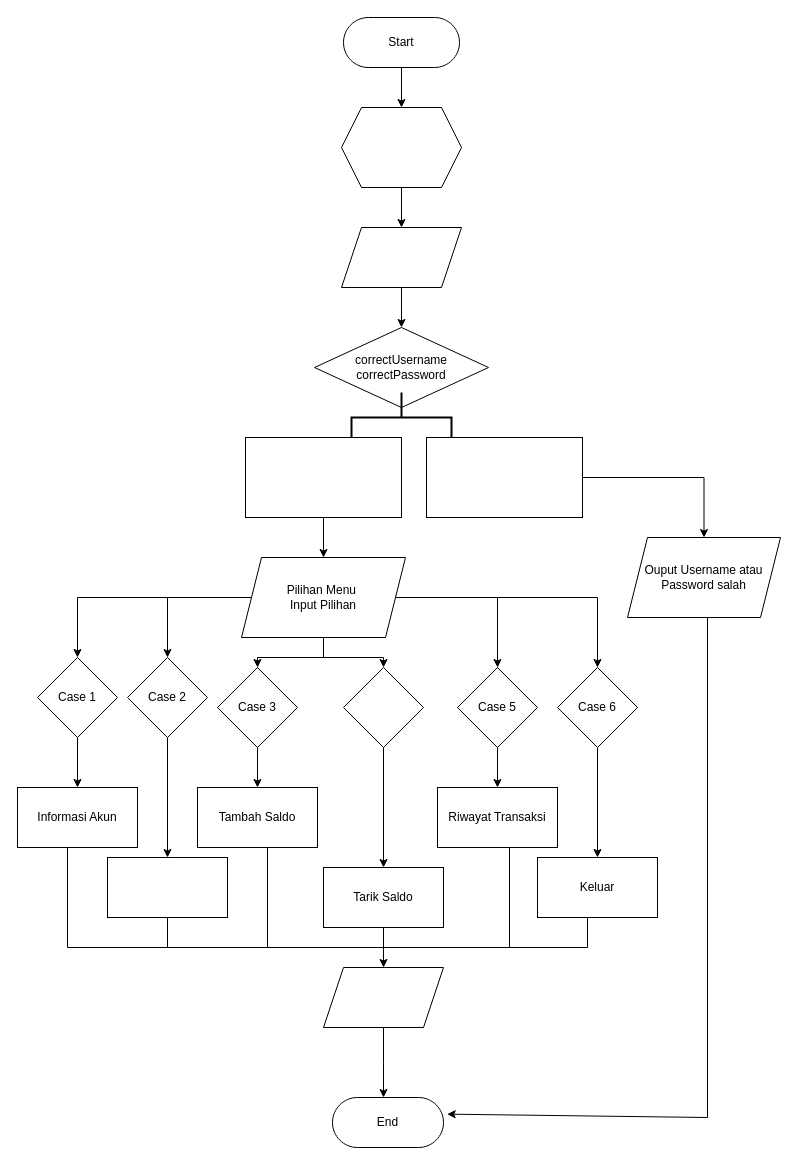
This 798x1165 diagram has some shape labels left out. Each missing label, with the box of its shape:
Case 4: (342, 666, 424, 748)
Cek Saldo: (106, 856, 228, 918)
else: (426, 436, 582, 518)
Input Username Input Password: (340, 226, 462, 288)
Output: (322, 966, 444, 1028)
String Username String Password Int Pilihan Struct Atm: (340, 106, 462, 188)
username == correctUsername && password == correctPassword: (244, 436, 402, 518)
